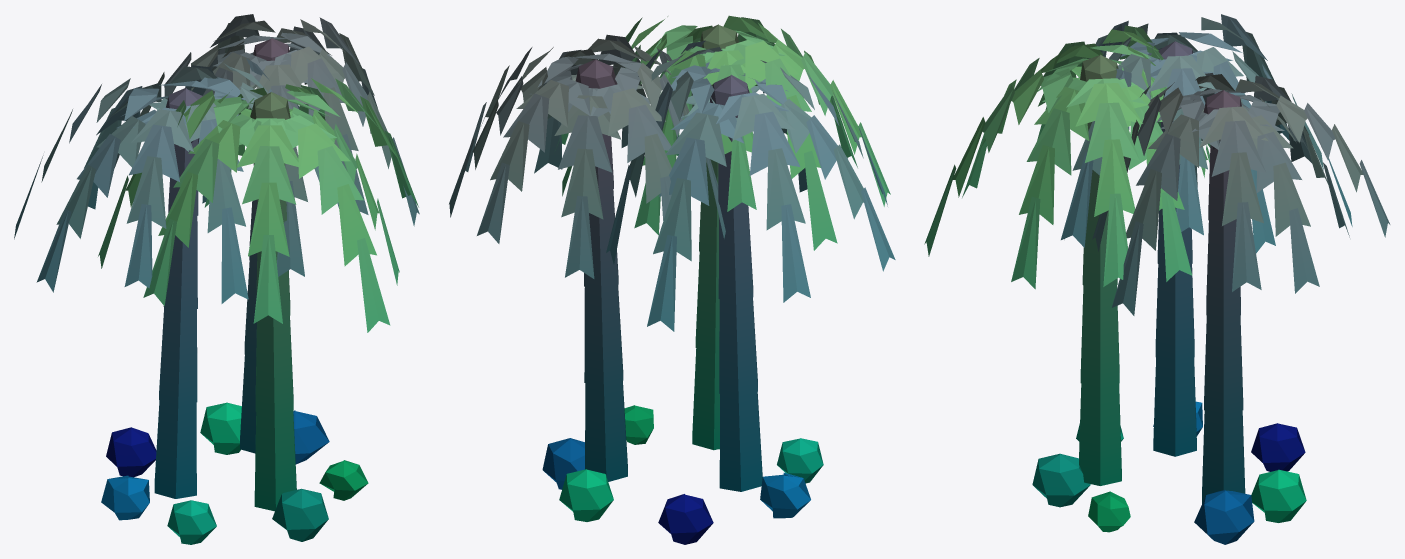
Rendered from palm_01.glb.
3 views of the same model, side by side, from view 1: azimuth 30°, elevation 25°; view 2: azimuth 150°, elevation 25°; view 3: azimuth 270°, elevation 25° (orthographic). The views are drawn at different scales.
Parts seen in each view (by area): view 1: palm_01; view 2: palm_01; view 3: palm_01.
Part boxes in pixels (<box>): palm_01: <box>14,14,419,544</box>; palm_01: <box>449,15,895,544</box>; palm_01: <box>924,14,1390,544</box>.
Bounding box in the file's own units: 0.9063 × 0.9856 × 0.94.
